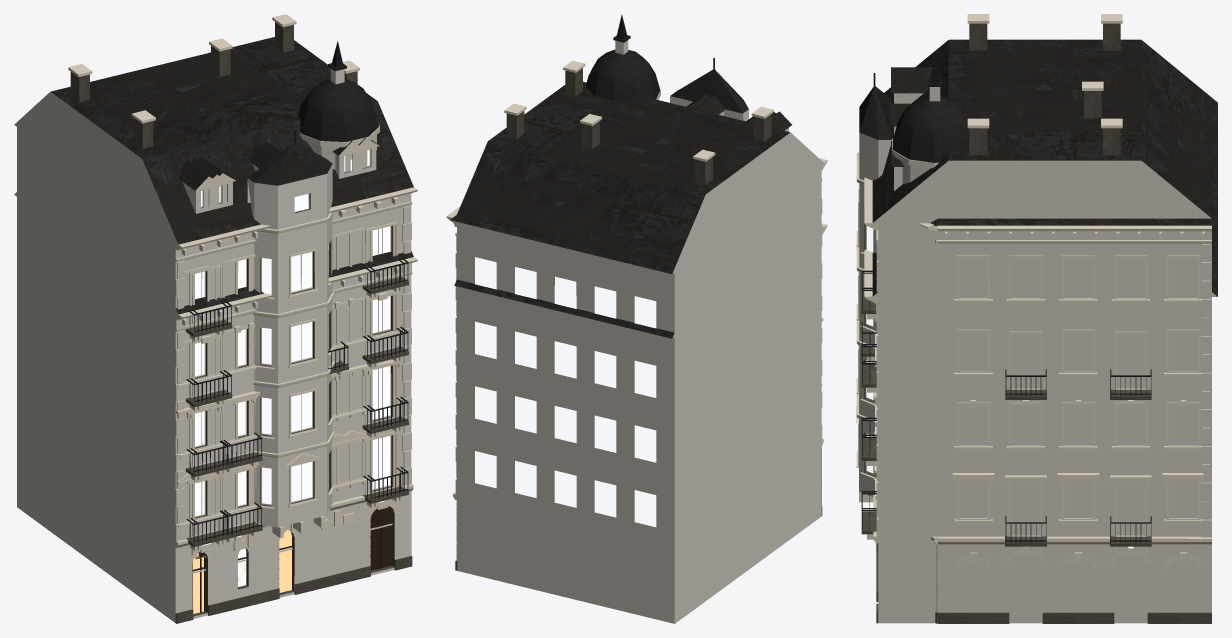
File: oldcenter.glb
3 renders of one model, left to right at view 1: azimuth 30°, elevation 25°; view 2: azimuth 150°, elevation 25°; view 3: azimuth 270°, elevation 25°, orthographic. The views are drawn at different scales.
Parts seen in each view (by area): view 1: dohod_corner_5, dohod_arch_4, dohod_erker_5, dohod_row_4, dohod_row_5; view 2: dohod_corner_5, dohod_arch_4, dohod_erker_5; view 3: dohod_erker_5, dohod_arch_4, dohod_corner_5, dohod_row_5.
Part boxes in pixels (x1,y1,x2,y2): dohod_corner_5: (14, 38, 379, 622); dohod_arch_4: (14, 162, 417, 623); dohod_erker_5: (52, 14, 417, 613); dohod_row_4: (175, 290, 412, 620); dohod_row_5: (175, 140, 416, 611); dohod_corner_5: (446, 14, 827, 623); dohod_arch_4: (454, 221, 827, 623); dohod_erker_5: (457, 58, 826, 448); dohod_erker_5: (856, 39, 1217, 623); dohod_arch_4: (861, 226, 1217, 623); dohod_corner_5: (861, 14, 1217, 623); dohod_row_5: (861, 74, 931, 588).
Size of what is drawn, in the model's own units: 12.7 by 25.16 by 15.18.
Materials: 9 (2 with a texture image).
